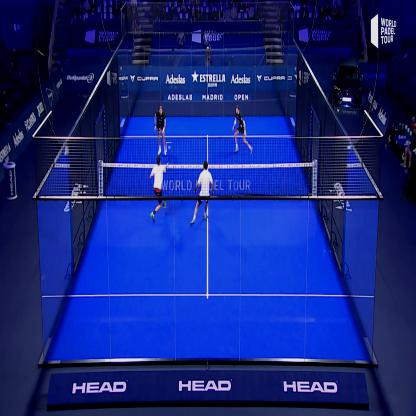ball: (166, 142, 173, 153)
